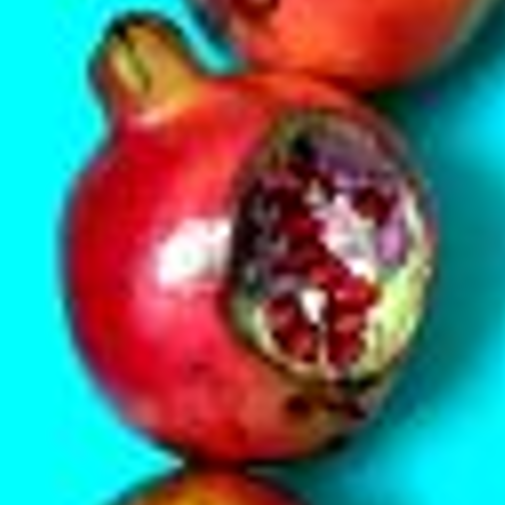pomegranate_C: (63, 12, 437, 465)
